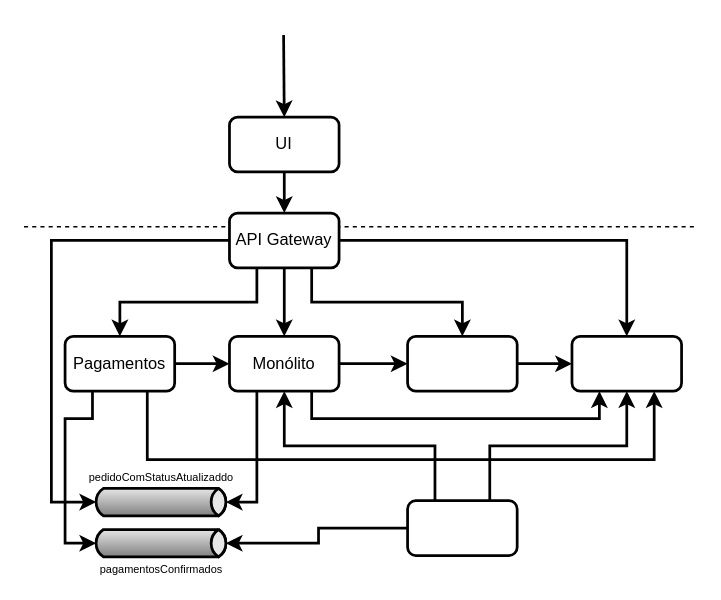
Image size: 721x600. Some labels were removed from this diagram. Here are the shapes that lost their labels. From the top down, the centre of each, then its label:
At point 462,363: "Distância".
At point 626,363: "Service Registry".
At point 462,527: "Nota Fiscal".
